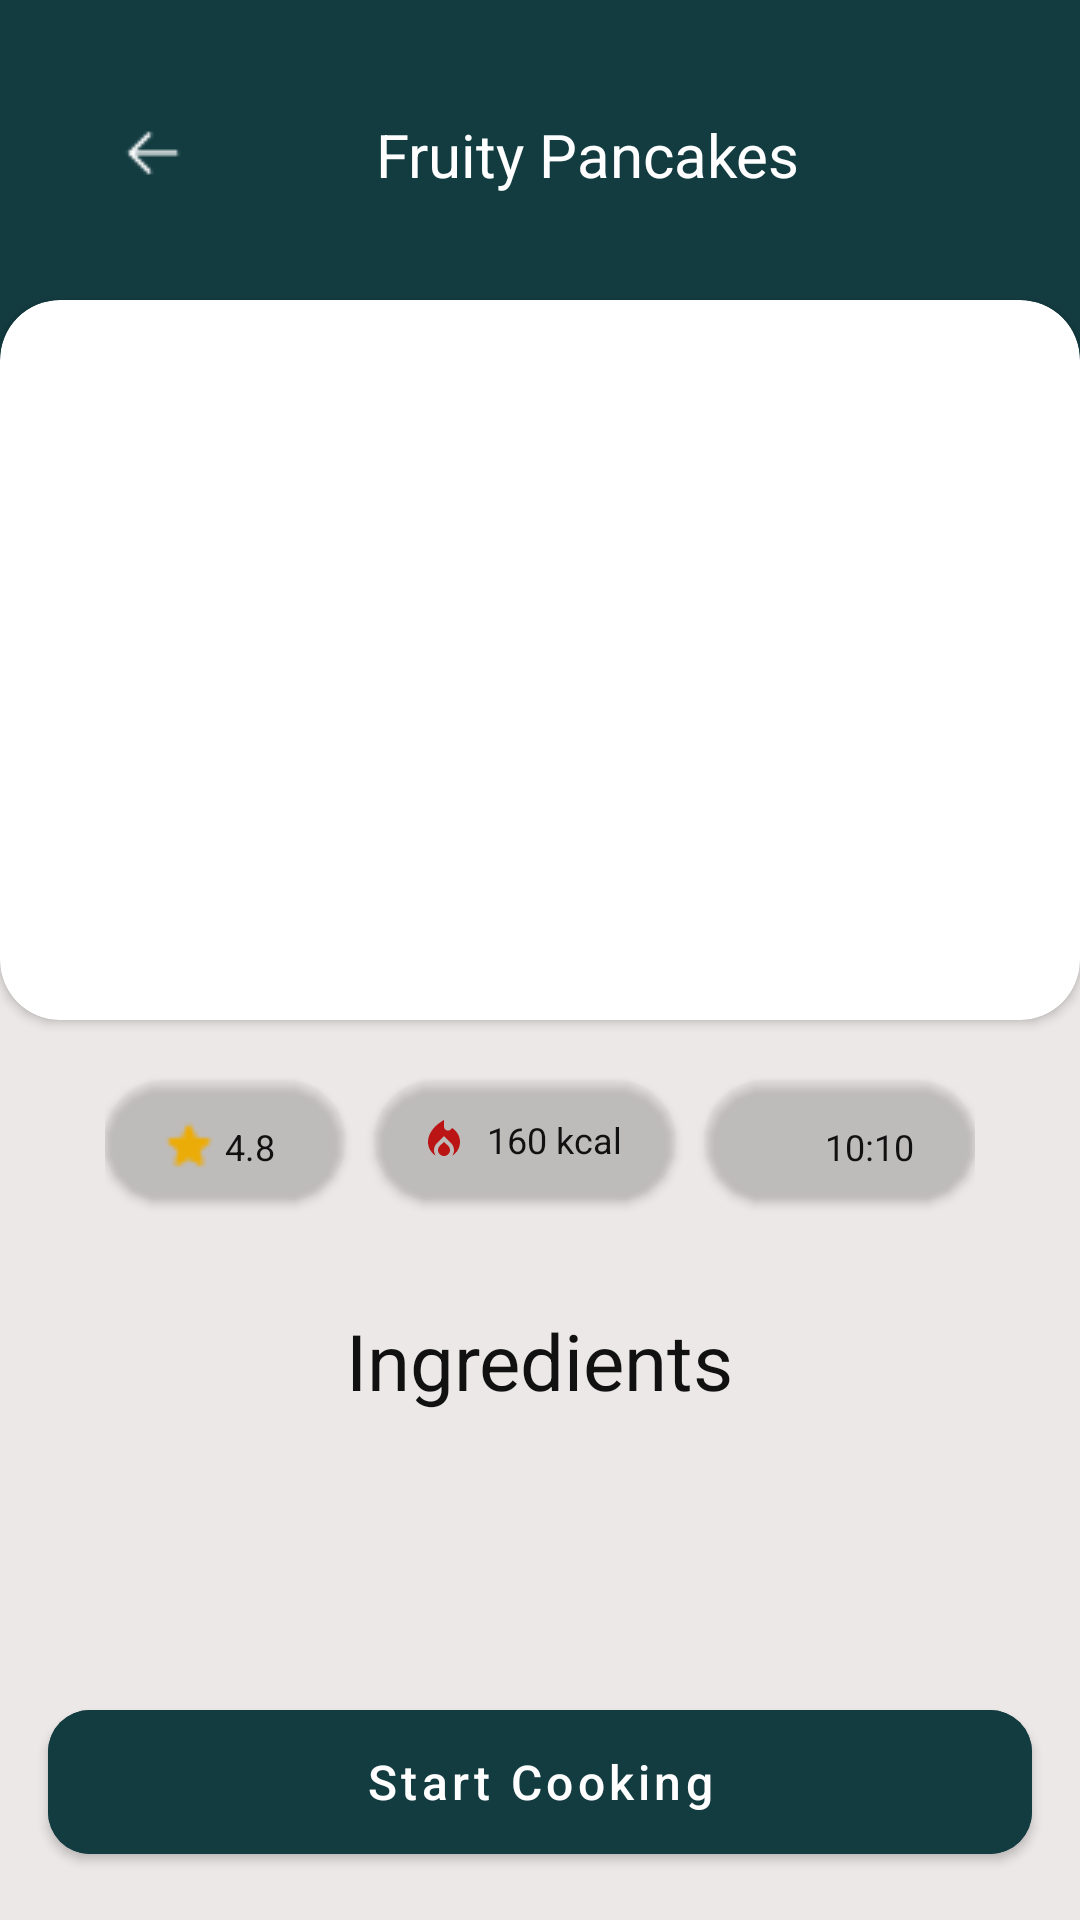

Icons on this 1080px x 1920px Android screen, each with the point to tap as (x,y):
back: (153,153)
fire: (444,1138)
star: (190,1145)
